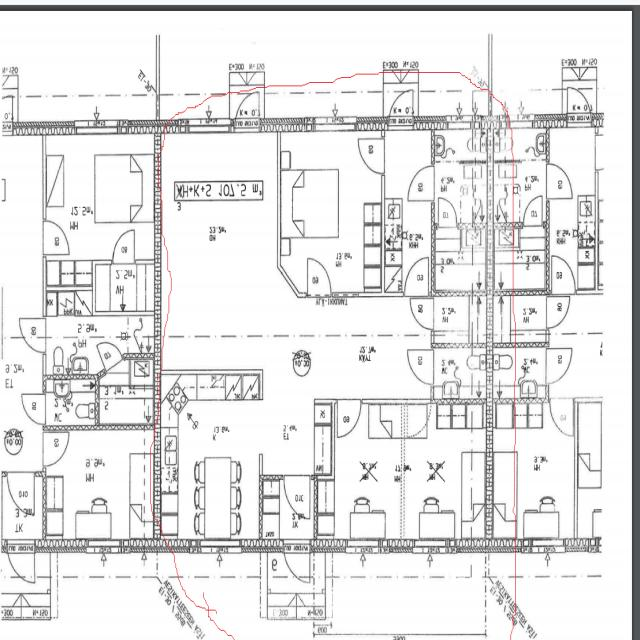door: (284, 539, 310, 592), (389, 80, 413, 128), (235, 81, 259, 128), (284, 474, 310, 517), (407, 166, 435, 201), (405, 256, 429, 296), (338, 399, 362, 438), (408, 349, 435, 383), (358, 139, 385, 173), (407, 399, 430, 437), (308, 257, 330, 296), (410, 298, 435, 330), (438, 196, 456, 228)
